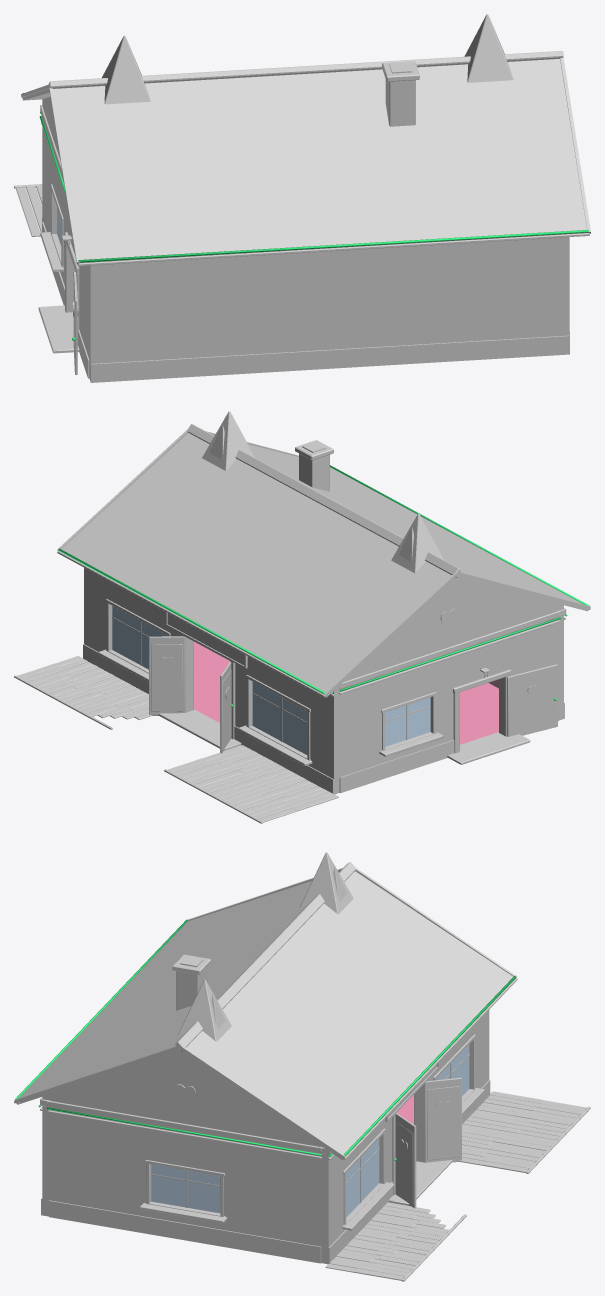
Rendered from zon_bakery_raw.glb.
3 renders of one model, top to bottom at view 1: azimuth 30°, elevation 25°; view 2: azimuth 150°, elevation 25°; view 3: azimuth 270°, elevation 25°, orthographic. The views are drawn at different scales.
Parts seen in each view (by area): view 1: SM_zon_bakery_kit_bakery_xm1_z1_raw, SM_zon_bakery_bakery_neon_xm1_z1_raw; view 2: SM_zon_bakery_kit_bakery_xm1_z1_raw, SM_zon_bakery_bakery_glass_xm1_z1_raw, SM_zon_bakery_bakery_floor_xm1_z1_raw, SM_zon_bakery_bakery_neon_xm1_z1_raw; view 3: SM_zon_bakery_kit_bakery_xm1_z1_raw, SM_zon_bakery_bakery_glass_xm1_z1_raw, SM_zon_bakery_bakery_neon_xm1_z1_raw.
Boxes of the visible parts, x1,y1,x2,y2 form: SM_zon_bakery_kit_bakery_xm1_z1_raw: [14, 14, 590, 382]; SM_zon_bakery_bakery_neon_xm1_z1_raw: [22, 93, 589, 340]; SM_zon_bakery_kit_bakery_xm1_z1_raw: [14, 411, 590, 823]; SM_zon_bakery_bakery_glass_xm1_z1_raw: [112, 606, 430, 754]; SM_zon_bakery_bakery_floor_xm1_z1_raw: [194, 642, 498, 744]; SM_zon_bakery_bakery_neon_xm1_z1_raw: [58, 465, 589, 706]; SM_zon_bakery_kit_bakery_xm1_z1_raw: [14, 852, 590, 1281]; SM_zon_bakery_bakery_glass_xm1_z1_raw: [151, 1044, 469, 1216]; SM_zon_bakery_bakery_neon_xm1_z1_raw: [15, 919, 516, 1161].
Size of the model in its own units: 19.23 by 8.81 by 19.17.
